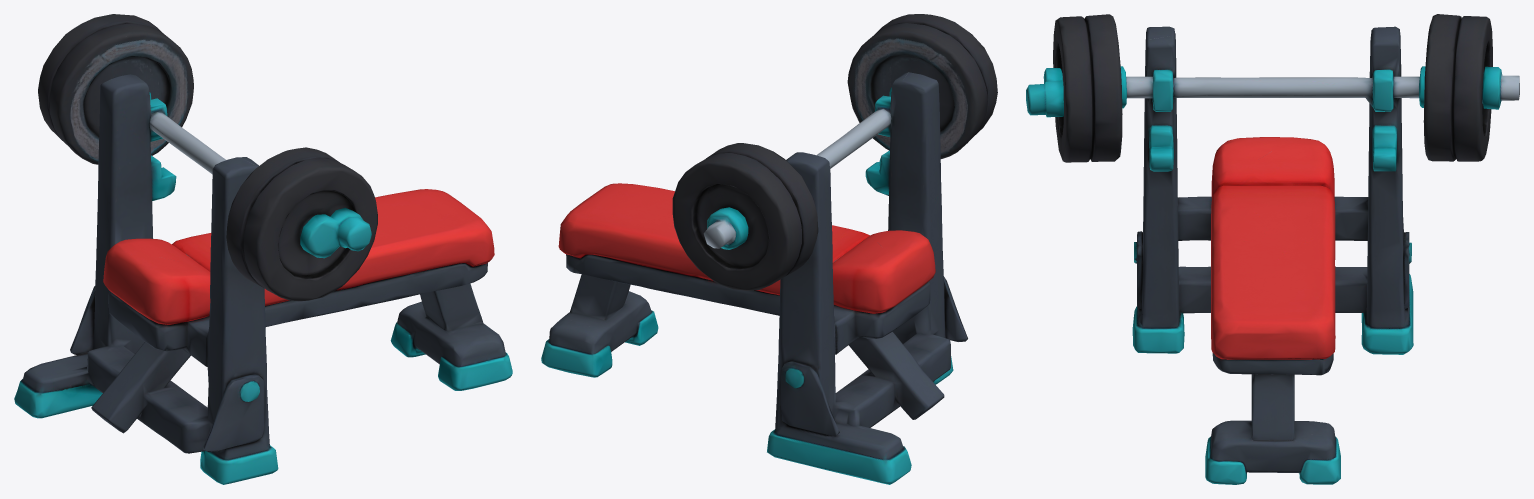
File: bench.glb
The picture shows the model from 3 angles, left to right: view 1: azimuth 30°, elevation 25°; view 2: azimuth 150°, elevation 25°; view 3: azimuth 270°, elevation 25°; orthographic projection. The views are drawn at different scales.
Parts seen in each view (by area): view 1: tripo_node_0b654014-d531-44b3-8848-5b8839dcc9de; view 2: tripo_node_0b654014-d531-44b3-8848-5b8839dcc9de; view 3: tripo_node_0b654014-d531-44b3-8848-5b8839dcc9de.
Boxes of the visible parts, left/top/right/bottom form: tripo_node_0b654014-d531-44b3-8848-5b8839dcc9de: left=14, top=14, right=512, bottom=484; tripo_node_0b654014-d531-44b3-8848-5b8839dcc9de: left=541, top=14, right=997, bottom=484; tripo_node_0b654014-d531-44b3-8848-5b8839dcc9de: left=1026, top=14, right=1519, bottom=484.
Bounding box in the file's own units: 0.9413 × 0.7432 × 1.
1 material, 1 textured.
